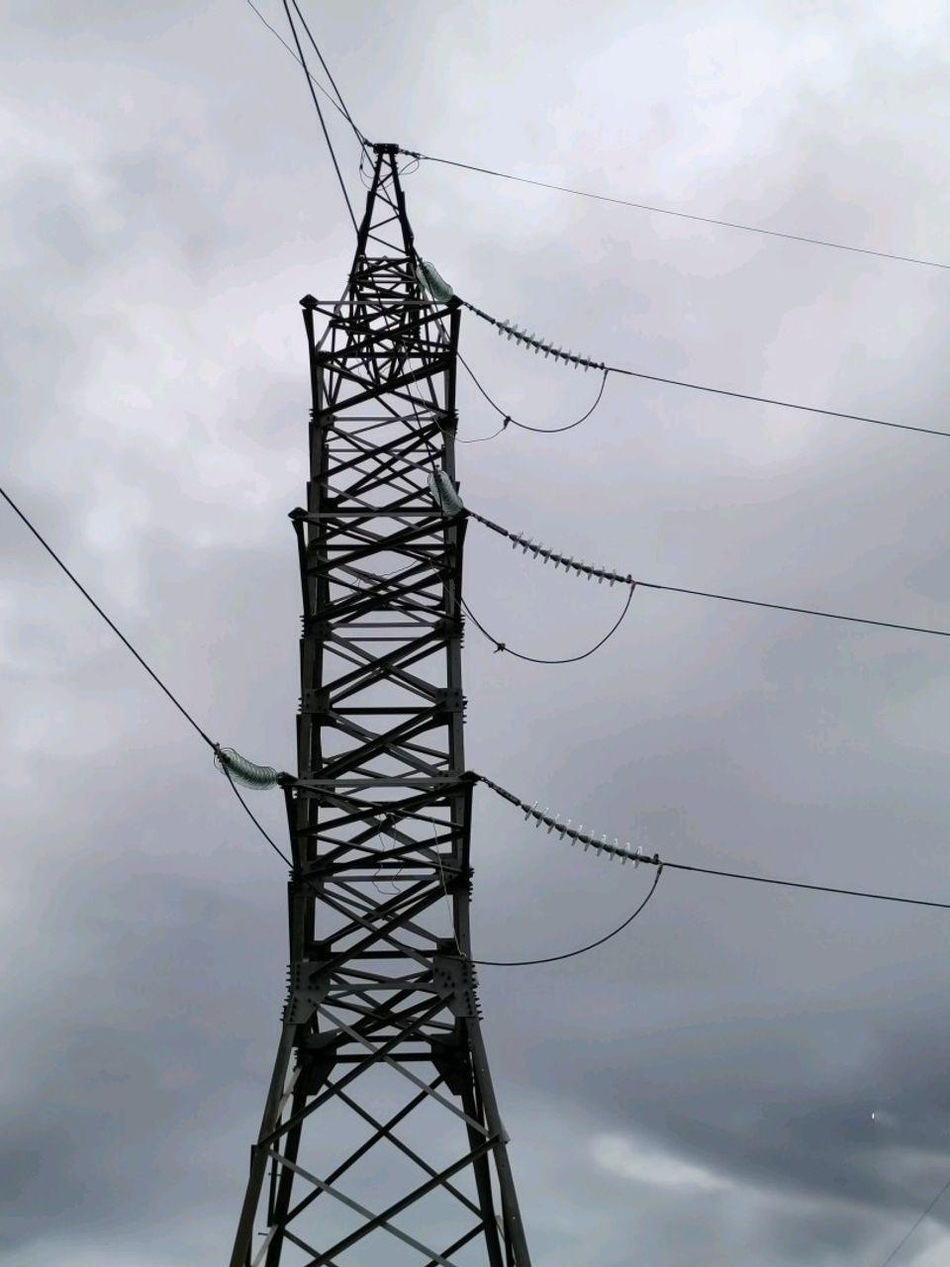tower: (196, 98, 579, 1267)
